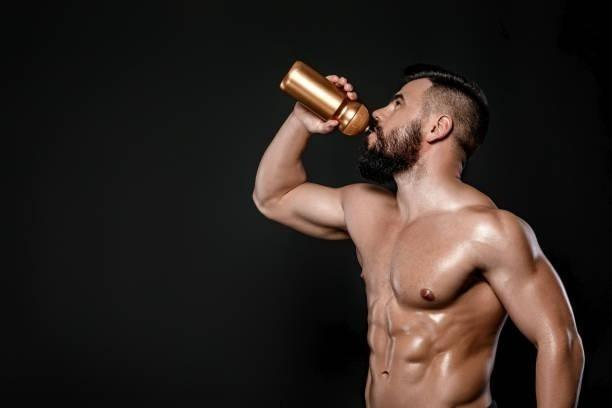gym bottle: (279, 58, 376, 135)
